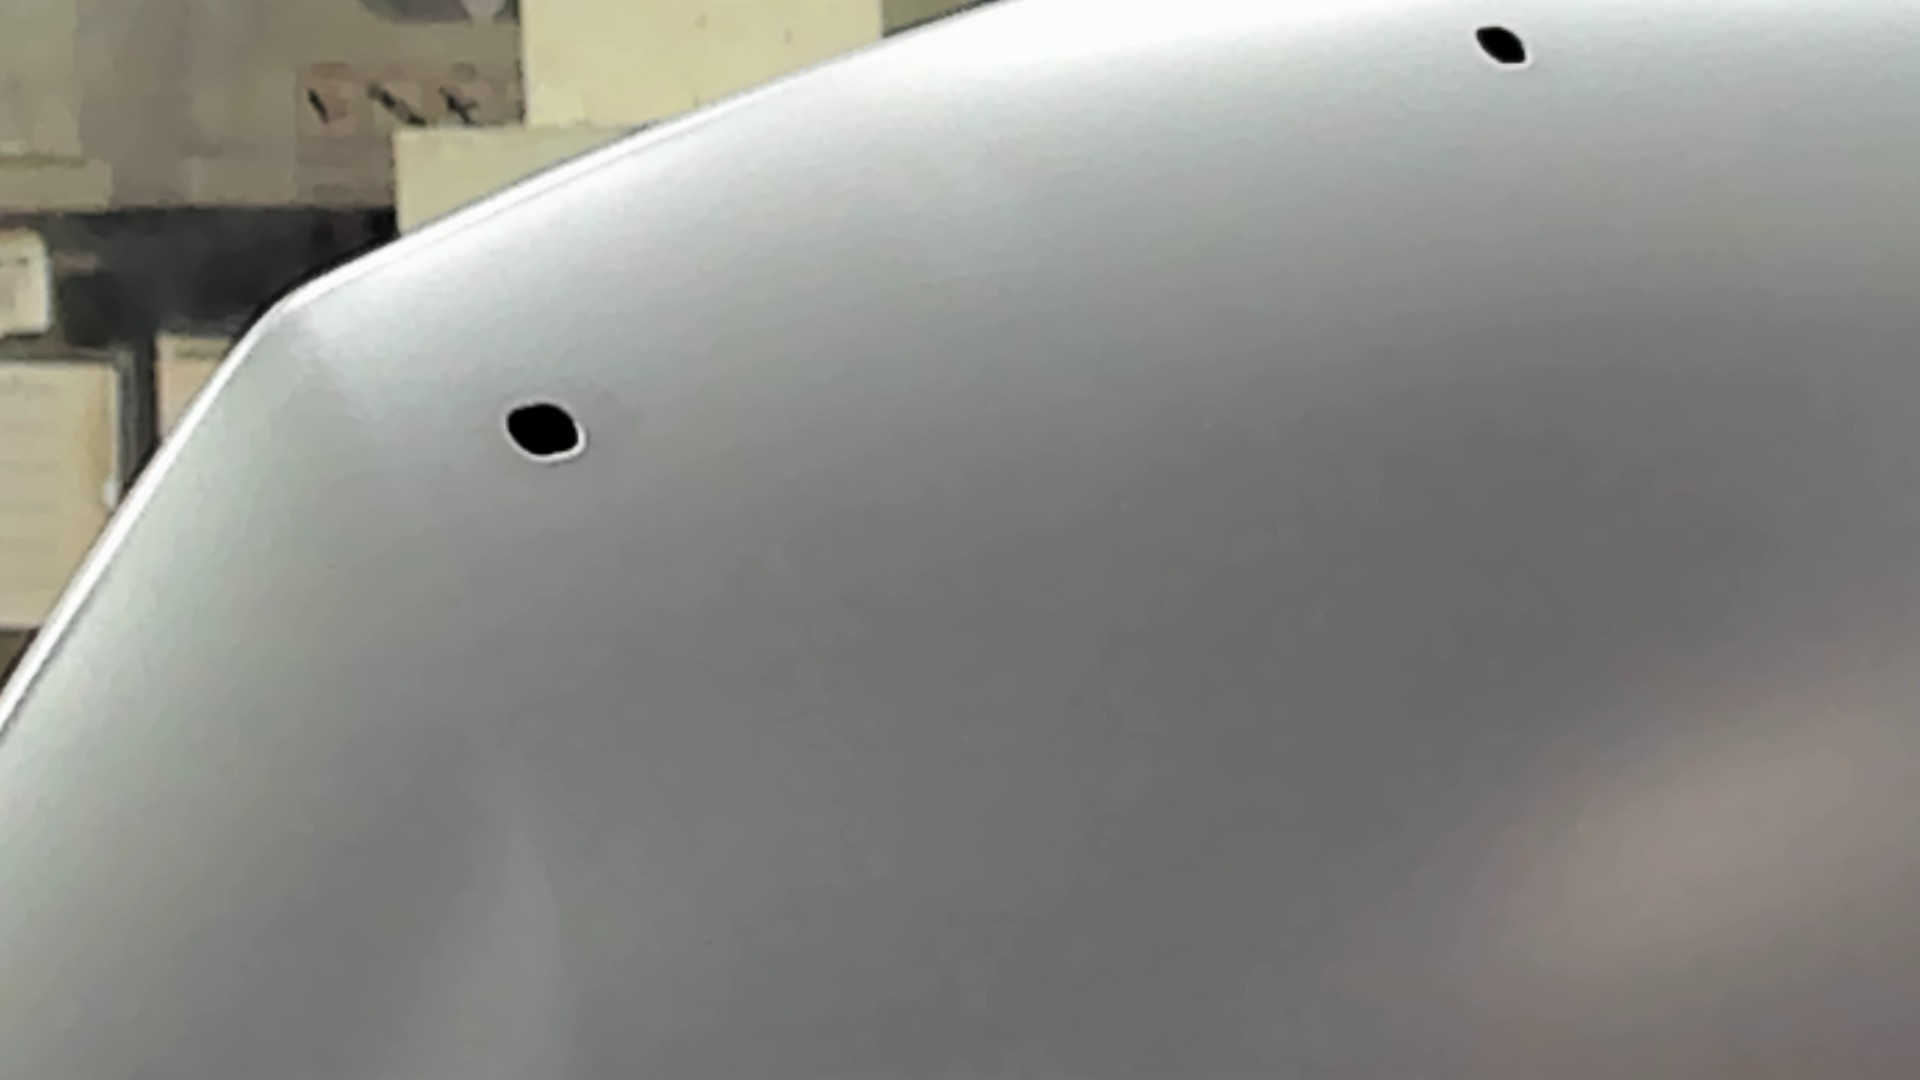amorfo: (497, 397, 592, 465), (1466, 22, 1532, 74)
capo: (717, 157, 1920, 1080)
